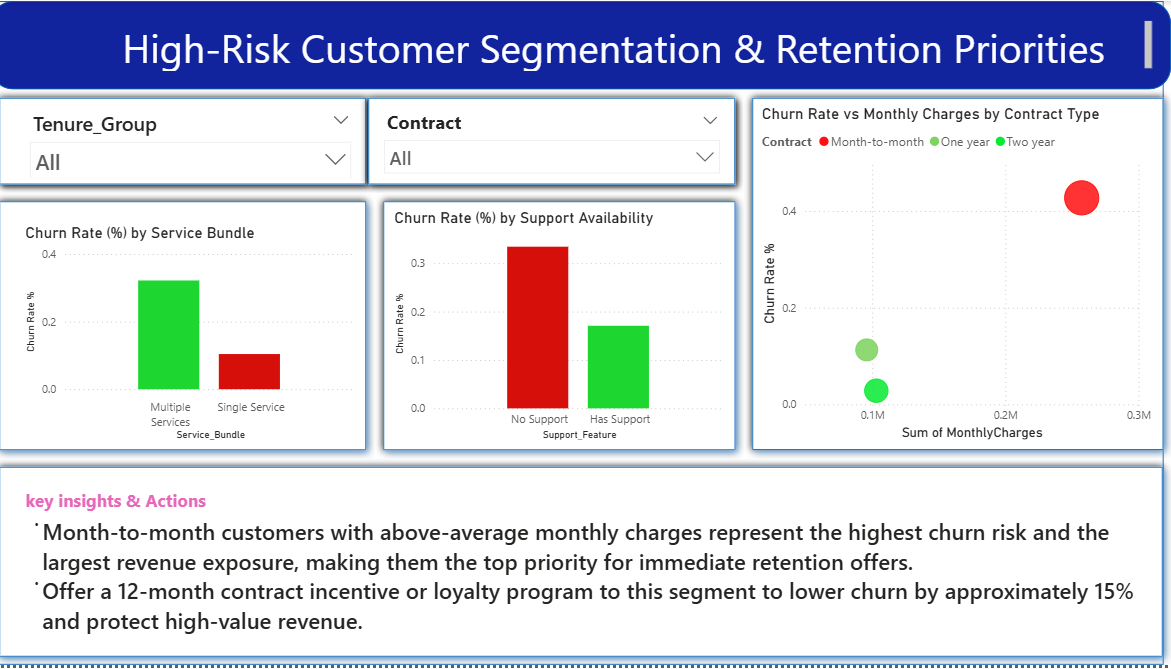

Layout of this report page (visuals, bound fields, positions):
{"tool":"powerbi","page":{"name":"Page 3","canvas":[1280,720],"ordinal":2},"visuals":[{"type":"shape","box":[0,0,1272,720],"z":0},{"type":"shape","box":[0,0,1280,96],"z":1000},{"type":"shape","box":[0,208,416,288],"z":2000},{"type":"shape","box":[416,208,400,288],"z":3000},{"type":"shape","box":[816,96,464,400],"z":4000},{"type":"columnChart","title":"Churn Rate (%) by Service Bundle","fields":{"Category":["WA_Fn-UseC_-Telco-Customer-Chur.Service_Bundle"],"Y":["WA_Fn-UseC_-Telco-Customer-Chur.Churn Rate %"]},"box":[32,240,368,240],"z":5000},{"type":"columnChart","title":"Churn Rate (%) by Support Availability","fields":{"Category":["WA_Fn-UseC_-Telco-Customer-Chur.Support_Feature"],"Y":["WA_Fn-UseC_-Telco-Customer-Chur.Churn Rate %"]},"box":[432,224,368,256],"z":6000},{"type":"scatterChart","title":"Churn Rate vs Monthly Charges by Contract Type","fields":{"X":["Sum(WA_Fn-UseC_-Telco-Customer-Chur.MonthlyCharges)"],"Y":["WA_Fn-UseC_-Telco-Customer-Chur.Churn Rate %"],"Series":["WA_Fn-UseC_-Telco-Customer-Chur.Contract"],"Size":["WA_Fn-UseC_-Telco-Customer-Chur.Total_Customers"]},"box":[832,112,432,368],"z":7000},{"type":"shape","box":[0,496,1280,224],"z":8000},{"type":"textbox","title":"key insights & Actions","box":[32,528,1232,176],"z":9000},{"type":"shape","box":[0,96,416,112],"z":10000},{"type":"shape","box":[400,96,416,112],"z":11000},{"type":"slicer","fields":{"Values":["WA_Fn-UseC_-Telco-Customer-Chur.Tenure_Group"]},"box":[32,112,368,80],"z":12000},{"type":"slicer","fields":{"Values":["WA_Fn-UseC_-Telco-Customer-Chur.Contract"]},"box":[416,112,384,80],"z":13000},{"type":"textbox","box":[96,16,1168,64],"z":14000}]}

Visuals, with their boxes in screenshot pixels (x1, y1, x2, y2), scaled from the page's 1280x720 canvas onto the 1171x669 screenshot:
shape: detection(0, 0, 1164, 668)
shape: detection(0, 0, 1170, 89)
shape: detection(0, 193, 381, 461)
shape: detection(381, 193, 747, 461)
shape: detection(747, 89, 1170, 461)
"Churn Rate (%) by Service Bundle" columnChart: detection(29, 223, 366, 446)
"Churn Rate (%) by Support Availability" columnChart: detection(395, 208, 732, 446)
"Churn Rate vs Monthly Charges by Contract Type" scatterChart: detection(761, 104, 1156, 446)
shape: detection(0, 461, 1170, 668)
"key insights & Actions" textbox: detection(29, 491, 1156, 654)
shape: detection(0, 89, 381, 193)
shape: detection(366, 89, 747, 193)
slicer - WA_Fn-UseC_-Telco-Customer-Chur.Tenure_Group: detection(29, 104, 366, 178)
slicer - WA_Fn-UseC_-Telco-Customer-Chur.Contract: detection(381, 104, 732, 178)
textbox: detection(88, 15, 1156, 74)
